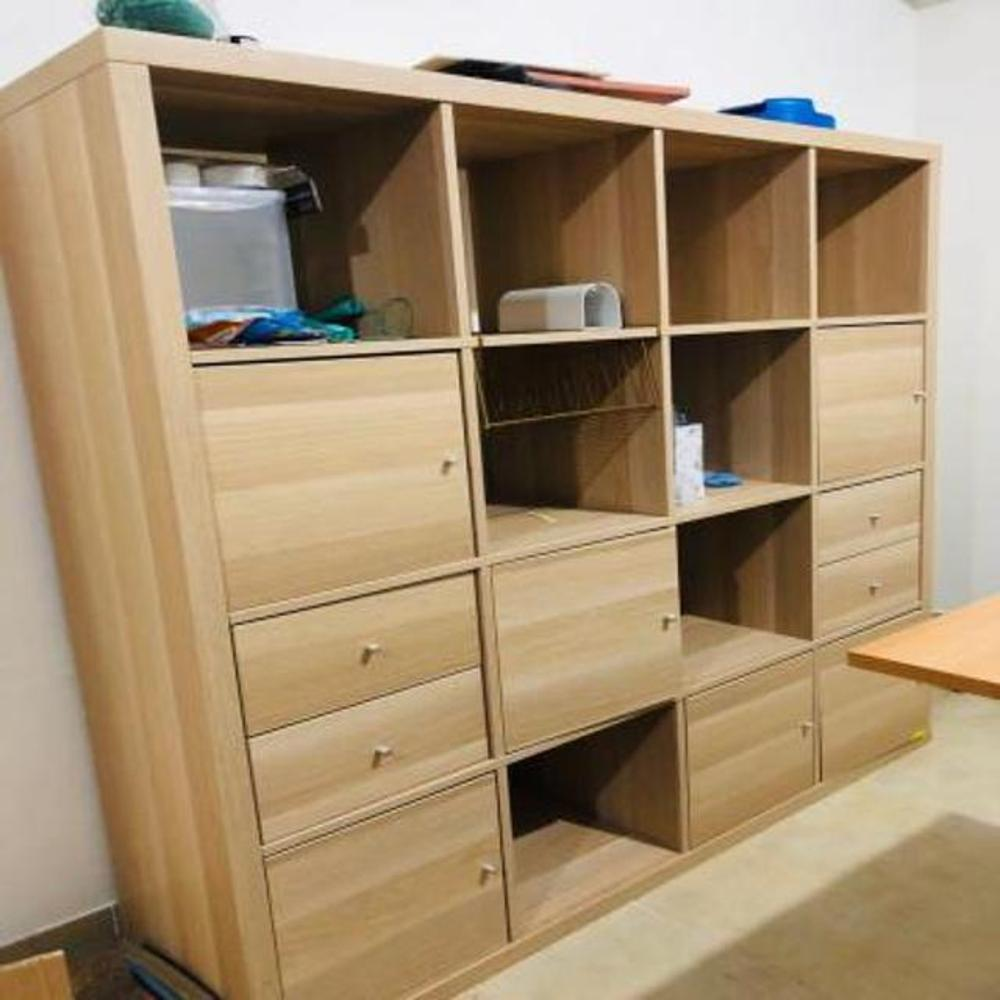lamp: (0, 20, 942, 999)
